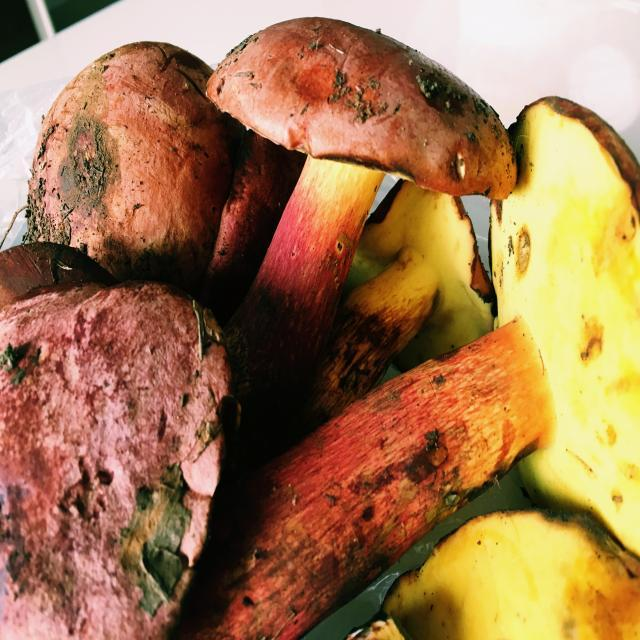Boletus: (217, 91, 640, 640), (209, 21, 512, 396), (31, 44, 232, 284), (296, 174, 496, 393)
